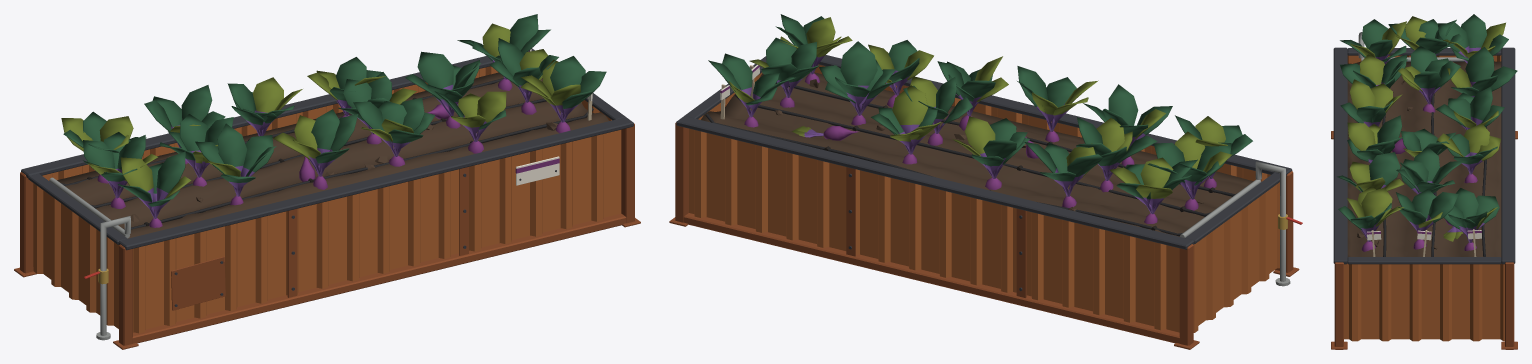
The model's file is deco_farm_bed_tubers.fbx.
3 renders of one model, left to right at view 1: azimuth 30°, elevation 25°; view 2: azimuth 150°, elevation 25°; view 3: azimuth 270°, elevation 25°, orthographic. The views are drawn at different scales.
Parts seen in each view (by area): view 1: FarmBed_Tubers_Frame, FarmBed_Tubers_Leaves, FarmBed_Tubers_Soil, FarmBed_Tubers_Irrigation, FarmBed_Tubers_Bulbs, FarmBed_Tubers_Tags; view 2: FarmBed_Tubers_Frame, FarmBed_Tubers_Leaves, FarmBed_Tubers_Soil, FarmBed_Tubers_Irrigation, FarmBed_Tubers_Bulbs; view 3: FarmBed_Tubers_Leaves, FarmBed_Tubers_Frame, FarmBed_Tubers_Soil, FarmBed_Tubers_Irrigation, FarmBed_Tubers_Bulbs, FarmBed_Tubers_Tags.
Boxes of the visible parts, left/top/right/bottom form: FarmBed_Tubers_Frame: left=14, top=48, right=640, bottom=349; FarmBed_Tubers_Leaves: left=61, top=14, right=606, bottom=218; FarmBed_Tubers_Soil: left=57, top=72, right=608, bottom=238; FarmBed_Tubers_Irrigation: left=49, top=78, right=593, bottom=340; FarmBed_Tubers_Bulbs: left=97, top=78, right=570, bottom=227; FarmBed_Tubers_Tags: left=515, top=49, right=592, bottom=185; FarmBed_Tubers_Frame: left=669, top=55, right=1299, bottom=349; FarmBed_Tubers_Leaves: left=708, top=14, right=1252, bottom=214; FarmBed_Tubers_Soil: left=701, top=72, right=1253, bottom=236; FarmBed_Tubers_Irrigation: left=705, top=82, right=1302, bottom=286; FarmBed_Tubers_Bulbs: left=744, top=73, right=1216, bottom=223; FarmBed_Tubers_Leaves: left=1337, top=14, right=1517, bottom=242; FarmBed_Tubers_Frame: left=1331, top=47, right=1517, bottom=349; FarmBed_Tubers_Soil: left=1347, top=61, right=1501, bottom=257; FarmBed_Tubers_Irrigation: left=1358, top=32, right=1486, bottom=256; FarmBed_Tubers_Bulbs: left=1361, top=104, right=1477, bottom=251; FarmBed_Tubers_Tags: left=1367, top=229, right=1481, bottom=256.
Bounding box in the file's own units: 424 × 122 × 148.
